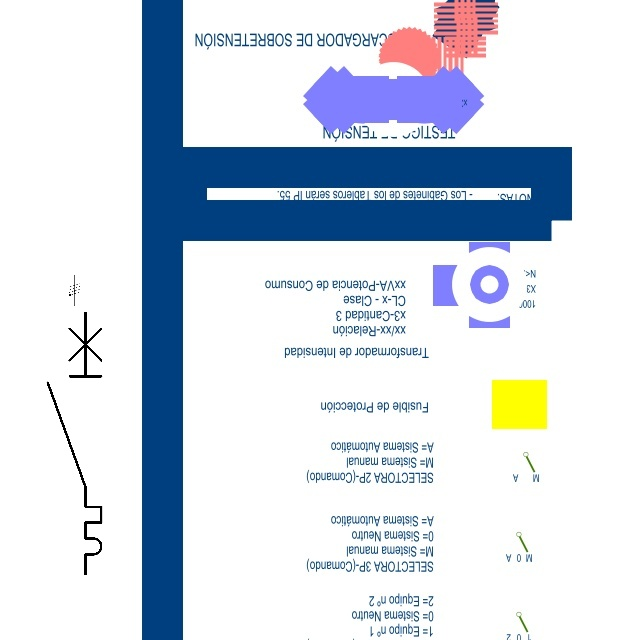interruptor_termomagnetico: (41, 306, 108, 581)
